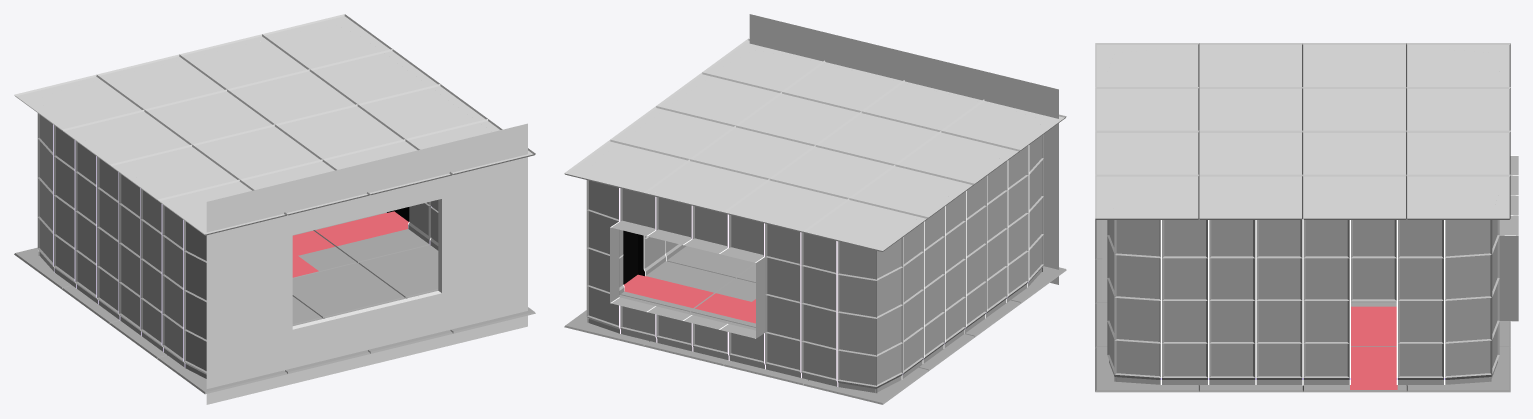
File: WallsPrebuilt.fbx
The picture shows the model from 3 angles, left to right: view 1: azimuth 30°, elevation 25°; view 2: azimuth 150°, elevation 25°; view 3: azimuth 270°, elevation 25°; orthographic projection. The views are drawn at different scales.
Parts seen in each view (by area): view 1: Ceiling, Wall_ViewCover, Wall, Floor, Wall_Door; view 2: Ceiling, Wall_Window, Wall, Floor, Wall_ViewCover, Wall_Door; view 3: Ceiling, Wall_Door, Floor, Wall_Window, Wall_View, Wall_ViewCover.
Boxes of the visible parts, x1,y1,x2,y2 form: Ceiling: (14,14,535,235); Wall_ViewCover: (206,123,527,404); Wall: (37,113,206,378); Floor: (14,211,535,394); Wall_Door: (386,200,438,250); Ceiling: (564,38,1066,251); Wall_Window: (586,180,877,393); Wall: (875,134,1043,393); Floor: (564,246,1066,404); Wall_ViewCover: (749,14,1058,284); Wall_Door: (587,180,685,322); Ceiling: (1095,43,1510,219); Wall_Door: (1114,219,1491,385); Floor: (1095,219,1510,392); Wall_Window: (1490,155,1518,381); Wall_View: (1107,220,1116,381); Wall_ViewCover: (1102,220,1107,300).
Bounding box in the file's own units: 2200 × 1290 × 2242.
